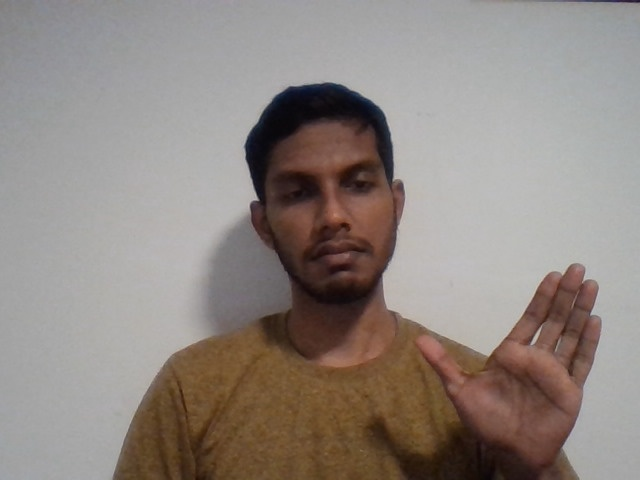hello: (408, 259, 624, 472)
